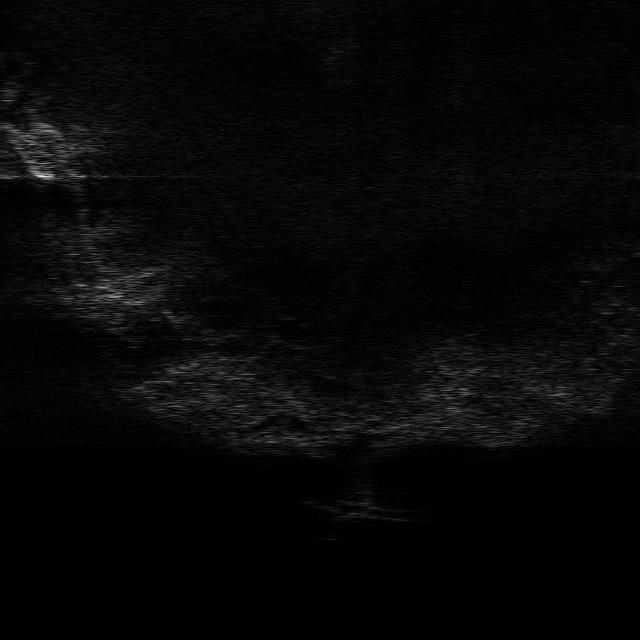plane: (304, 498, 411, 524)
